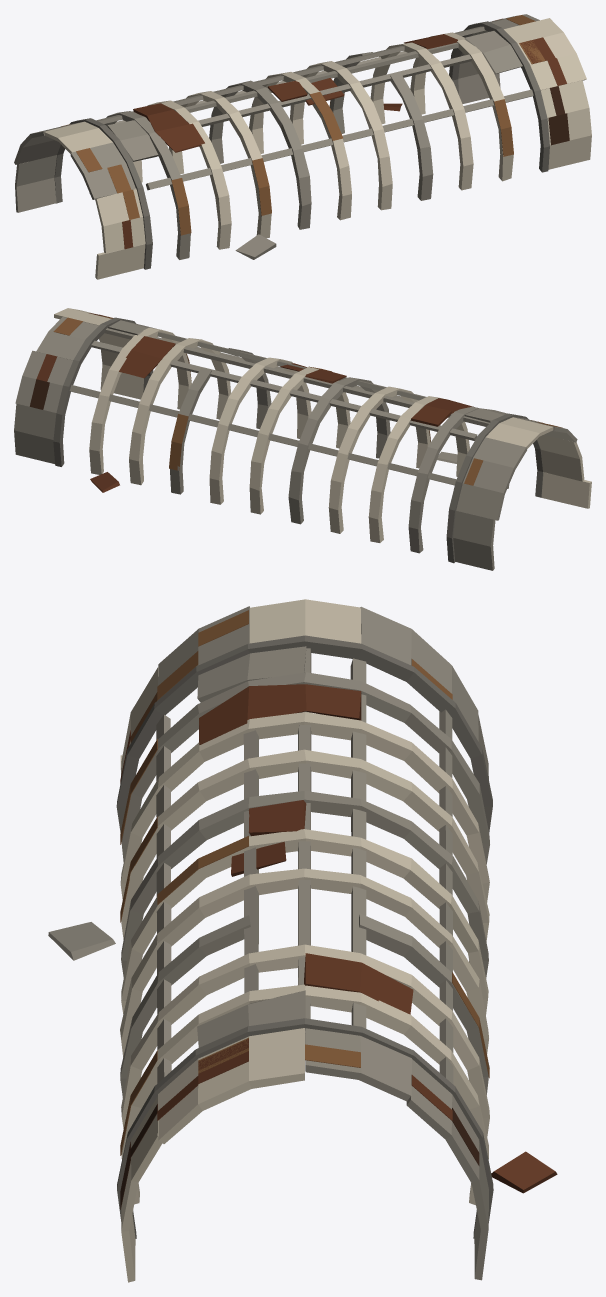
Rendered from ship_cage.glb.
3 views of the same model, one above another, from view 1: azimuth 30°, elevation 25°; view 2: azimuth 150°, elevation 25°; view 3: azimuth 270°, elevation 25° (orthographic). The views are drawn at different scales.
Parts seen in each view (by area): view 1: ship_cage; view 2: ship_cage; view 3: ship_cage.
Boxes of the visible parts, box(x1,y1,x2,y2) form: ship_cage: box(14, 14, 591, 279); ship_cage: box(14, 308, 591, 570); ship_cage: box(48, 599, 557, 1282).
Bounding box in the file's own units: 98.8 × 20.9 × 44.25.
